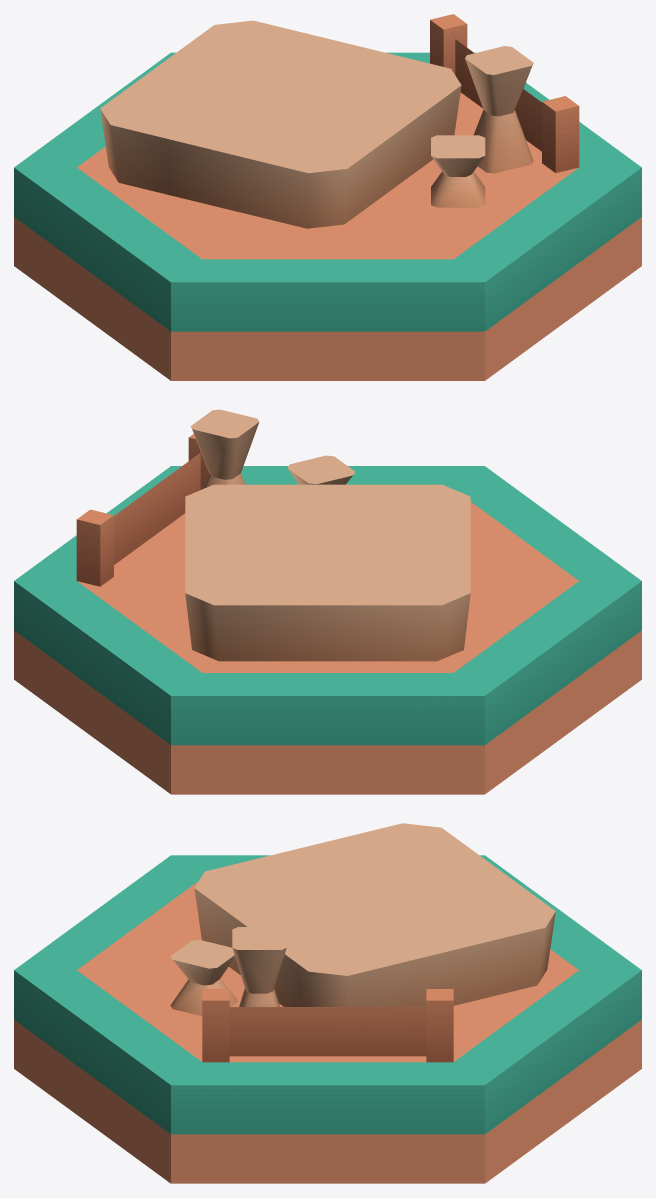
File: building-farm.glb
The picture shows the model from 3 angles, top to bottom: view 1: azimuth 30°, elevation 25°; view 2: azimuth 150°, elevation 25°; view 3: azimuth 270°, elevation 25°; orthographic projection.
Visible parts, largest first — view 1: building-farm; view 2: building-farm; view 3: building-farm.
Part boxes in pixels (x1,y1,x2,y2): building-farm: (14,14,641,380); building-farm: (14,409,641,794); building-farm: (14,823,641,1183).
Bounding box in the file's own units: 1 × 0.3999 × 1.15.
1 material, 1 textured.
